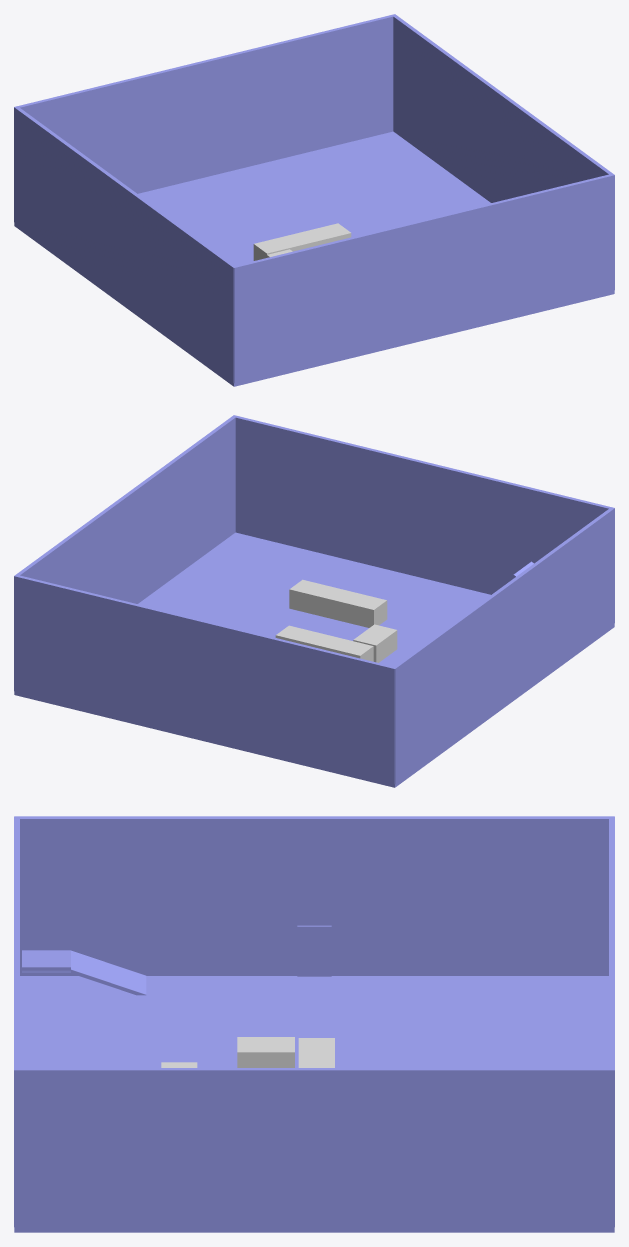
The picture shows the model from 3 angles, top to bottom: view 1: azimuth 30°, elevation 25°; view 2: azimuth 150°, elevation 25°; view 3: azimuth 270°, elevation 25°; orthographic projection. The views are drawn at different scales.
Parts seen in each view (by area): view 1: Cube.002, Cube.001, Cube.003, Cube, Cube.004, Cube.007; view 2: Cube.001, Cube.002, Cube.003, Cube, Cube.004, Cube.009, Cube.007, Cube.006; view 3: Cube.004, Cube.003, Cube, Cube.008, door_01, Cube.006, Cube.002, Cube.001, Cube.007.
Boxes of the visible parts, x1,y1,x2,y2 form: Cube.002: (232,174,614,382); Cube.001: (14,14,393,193); Cube.003: (14,106,236,382); Cube: (14,131,614,386); Cube.004: (392,14,614,202); Cube.007: (253,223,351,260); Cube.001: (14,575,396,783); Cube.002: (233,416,614,594); Cube.003: (392,508,614,783); Cube: (14,532,614,787); Cube.004: (14,415,236,603); Cube.009: (289,579,387,627); Cube.007: (275,625,373,661); Cube.006: (353,624,397,662); Cube.004: (14,1068,614,1227); Cube.003: (14,816,614,975); Cube: (14,976,614,1232); Cube.008: (22,950,146,995); door_01: (297,925,331,976); Cube.006: (237,1037,294,1067); Cube.002: (14,816,19,1226); Cube.001: (609,816,614,1226); Cube.007: (298,1038,334,1067).
Bounding box in the file's own units: 82.99 × 24.74 × 82.99.
